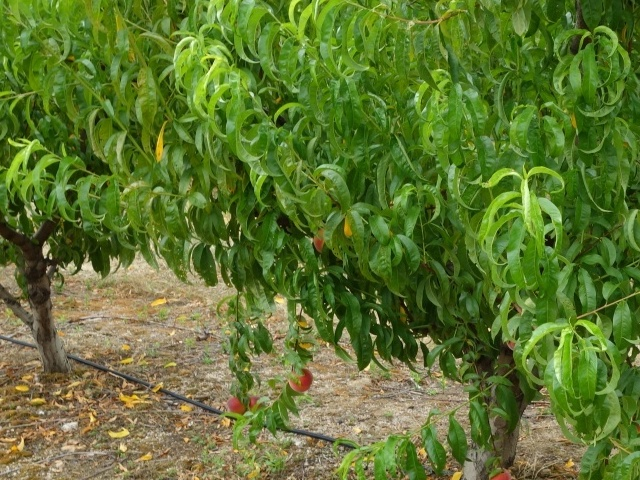peach: (284, 365, 316, 396), (308, 224, 331, 256), (224, 393, 248, 418)
